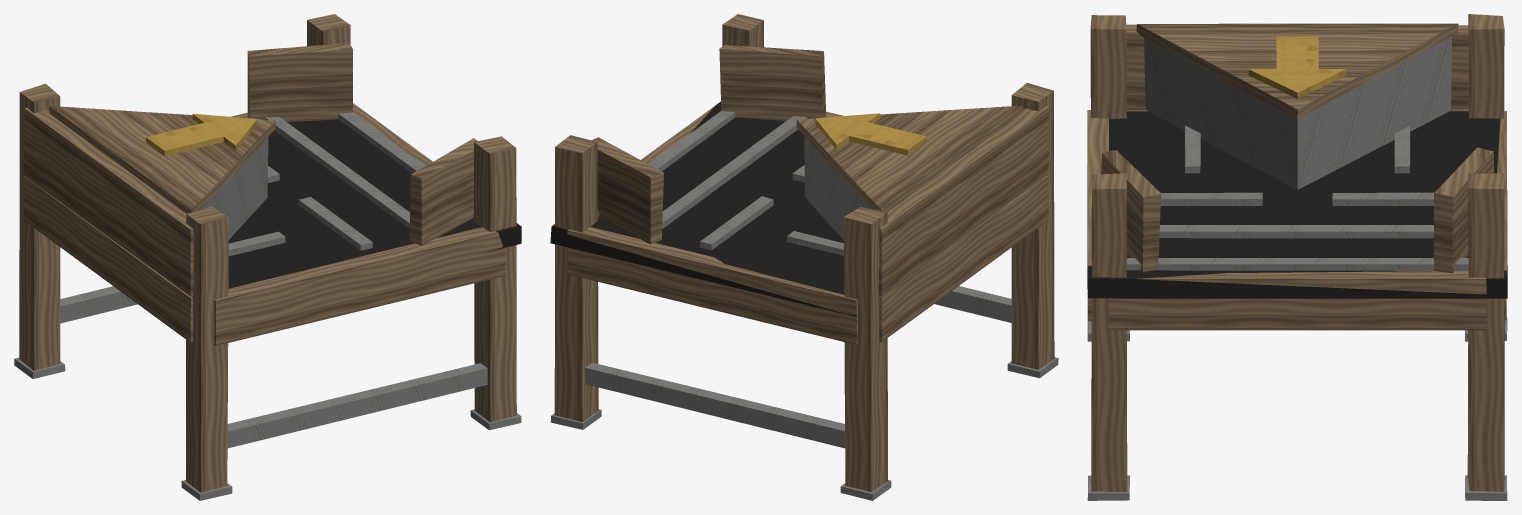
The model's file is merger.glb.
3 renders of one model, left to right at view 1: azimuth 30°, elevation 25°; view 2: azimuth 150°, elevation 25°; view 3: azimuth 270°, elevation 25°, orthographic. The views are drawn at different scales.
Visible parts, largest first — view 1: Merger; view 2: Merger; view 3: Merger.
Part boxes in pixels (<box>): Merger: <box>14,14,521,500</box>; Merger: <box>550,14,1058,500</box>; Merger: <box>1087,14,1507,500</box>.
Bounding box in the file's own units: 1.68 × 1.39 × 1.68.
Materials: 4 (3 with a texture image).
